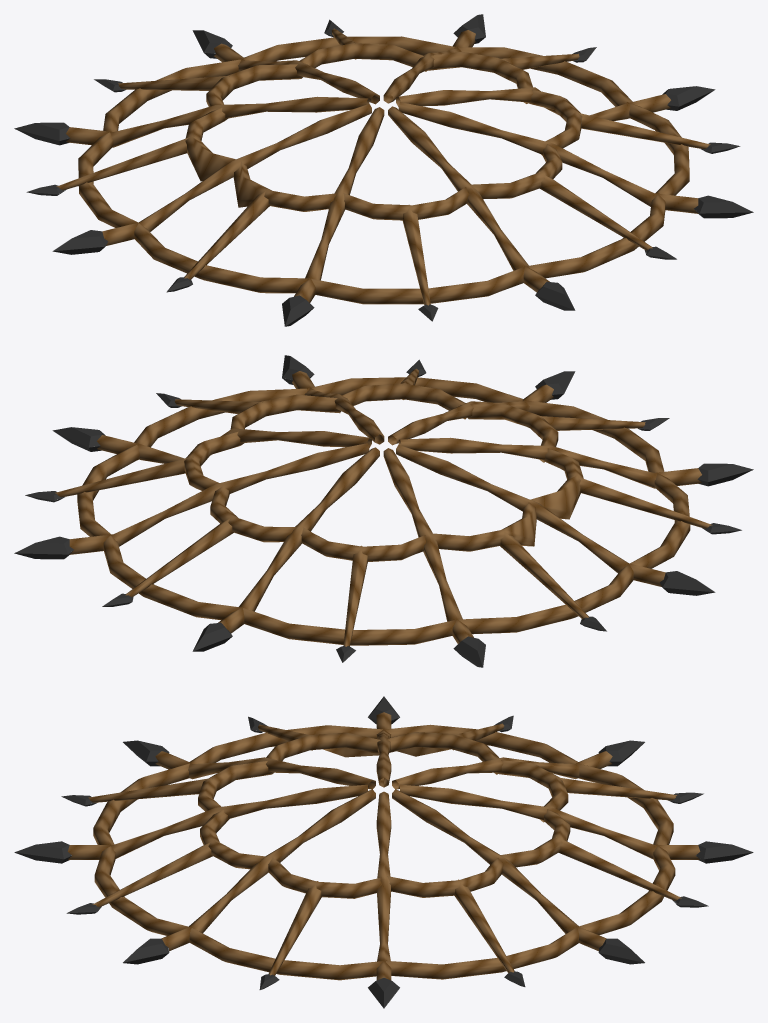
File: net.glb
3 renders of one model, top to bottom at view 1: azimuth 30°, elevation 25°; view 2: azimuth 150°, elevation 25°; view 3: azimuth 270°, elevation 25°, orthographic. The views are drawn at different scales.
Visible parts, largest first — view 1: net; view 2: net; view 3: net.
Boxes of the visible parts, x1,y1,x2,y2 form: net: (14,14,753,326); net: (14,355,753,667); net: (14,696,753,1008).
Bounding box in the file's own units: 92.11 × 10.4 × 92.11.
1 material, 1 textured.
